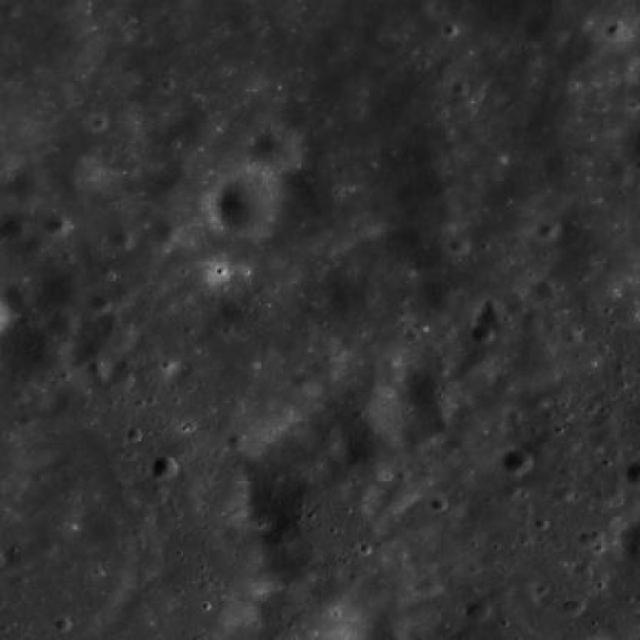crater: (244, 408, 478, 606), (0, 319, 71, 384), (213, 174, 281, 232), (332, 386, 400, 443), (502, 333, 567, 387), (70, 314, 132, 366), (486, 172, 546, 222), (346, 426, 404, 476), (250, 128, 306, 174), (403, 369, 452, 411), (6, 168, 48, 206), (44, 273, 84, 307), (132, 359, 170, 392), (4, 283, 38, 311), (135, 478, 168, 506), (0, 215, 29, 242), (46, 312, 76, 338), (502, 449, 533, 474), (151, 220, 180, 246), (478, 306, 507, 331), (44, 214, 72, 237), (152, 456, 178, 478), (333, 330, 359, 352), (110, 369, 135, 391), (534, 280, 558, 302), (600, 484, 626, 504), (88, 294, 112, 314), (466, 602, 489, 622), (110, 229, 132, 249), (538, 220, 560, 240), (292, 371, 314, 391), (416, 576, 438, 596), (562, 598, 584, 617), (87, 362, 110, 380), (472, 326, 494, 344), (607, 20, 627, 38), (450, 235, 470, 252), (553, 486, 573, 503), (562, 330, 581, 346), (503, 410, 522, 426)
